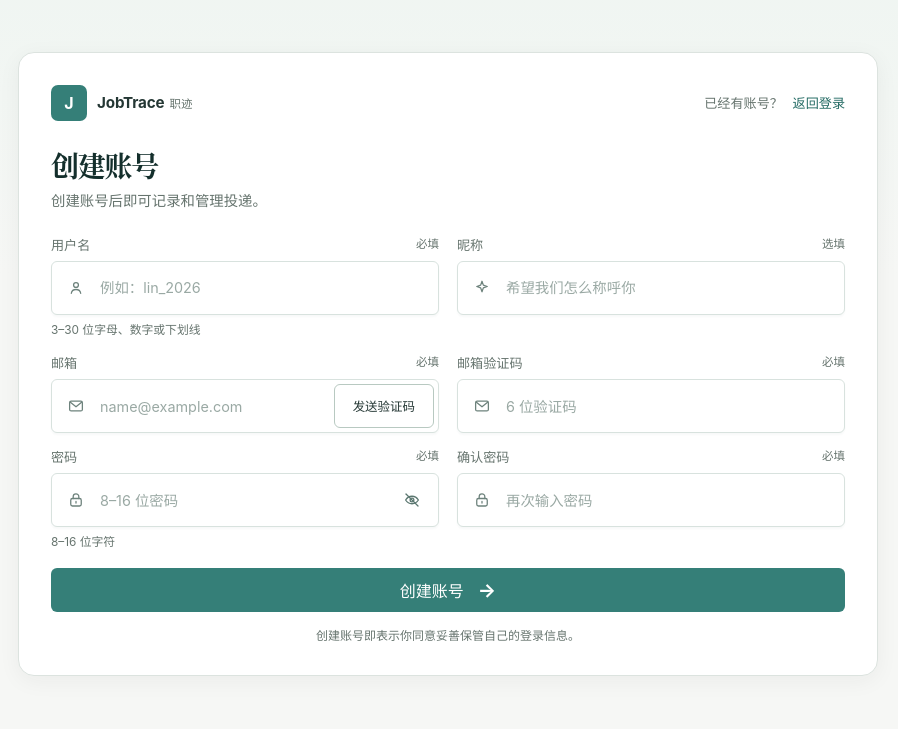
auth forms › keeps registration on the page when passwords differ
In the field labelled "用户名": x=245, y=288 left=51, top=261, right=439, bottom=315, type "user"
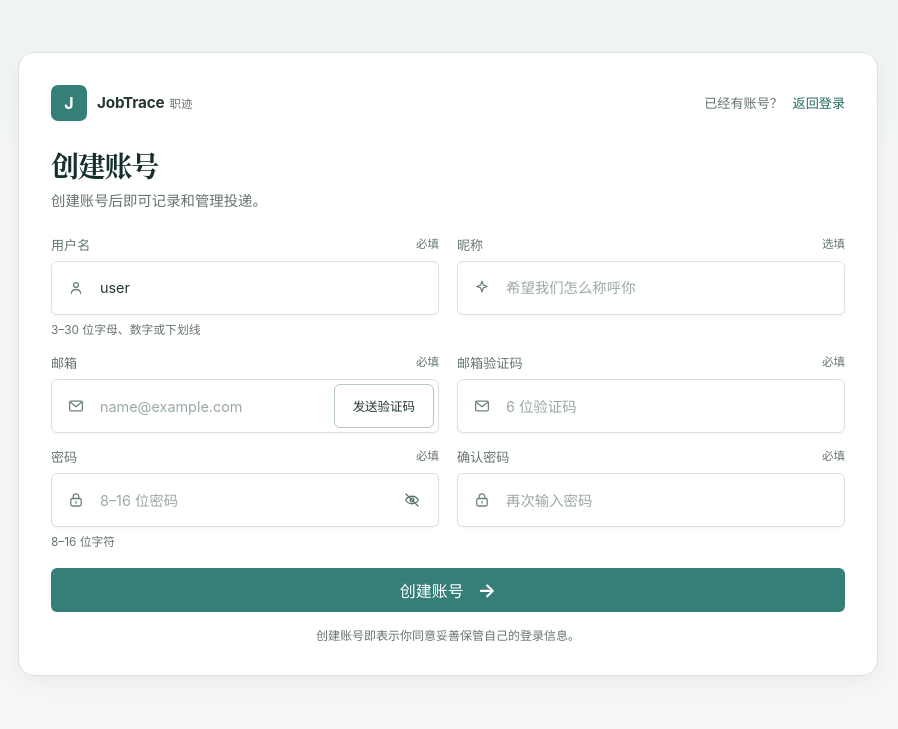
In the field labelled "邮箱": x=245, y=406 left=51, top=380, right=439, bottom=434, type "user@example.com"
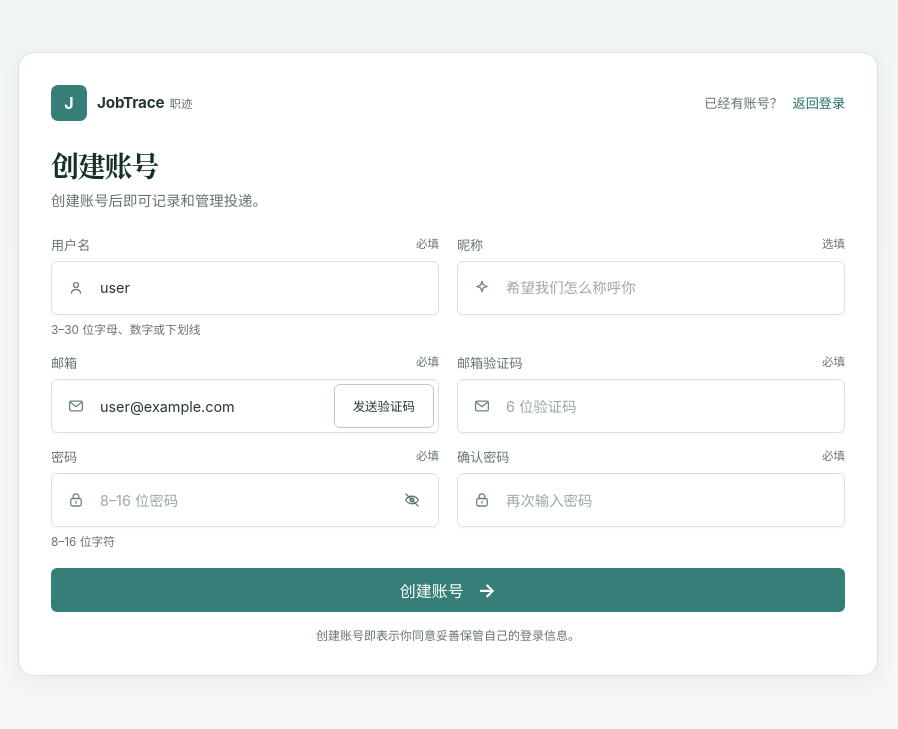
In the field labelled "邮箱验证码": x=651, y=406 left=457, top=380, right=845, bottom=434, type "123456"
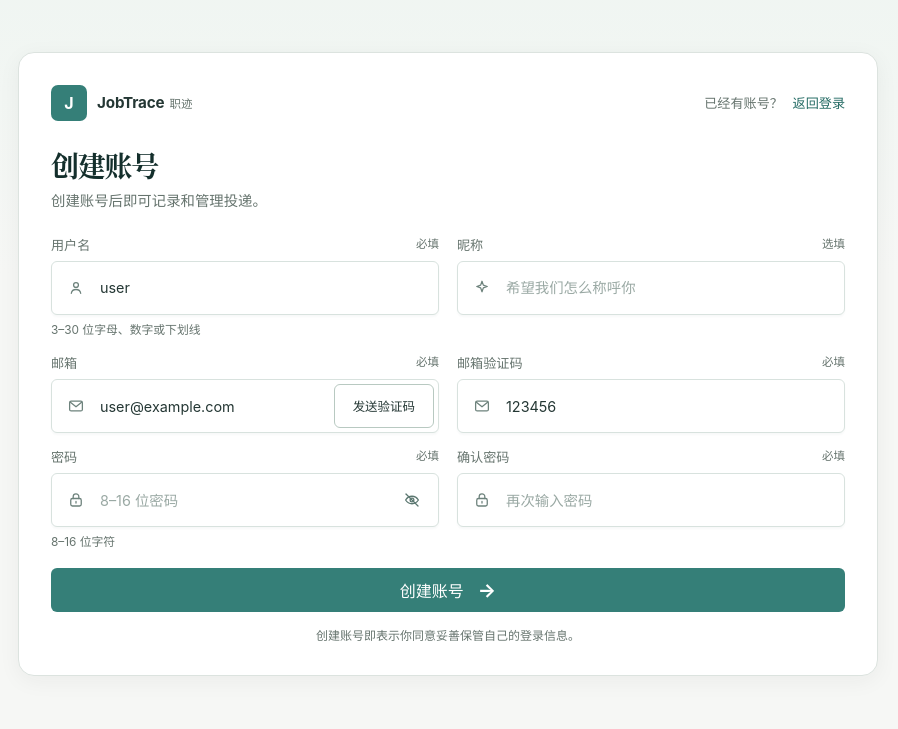
In the password field labelled "密码": x=245, y=500 left=51, top=474, right=439, bottom=528, type "secret123"
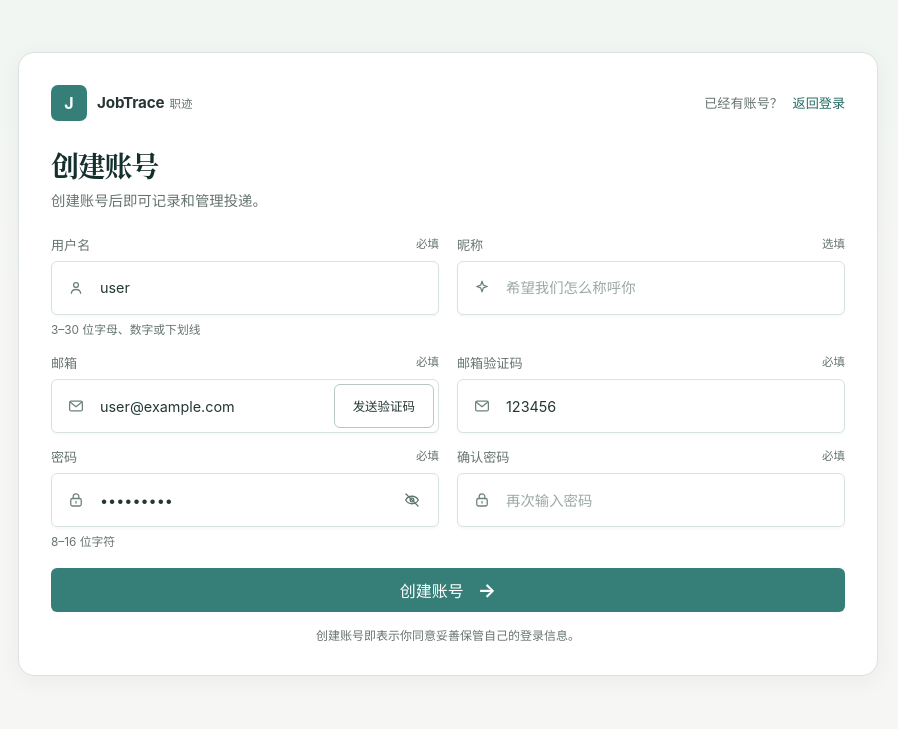
In the password field labelled "确认密码": x=651, y=500 left=457, top=474, right=845, bottom=528, type "different123"
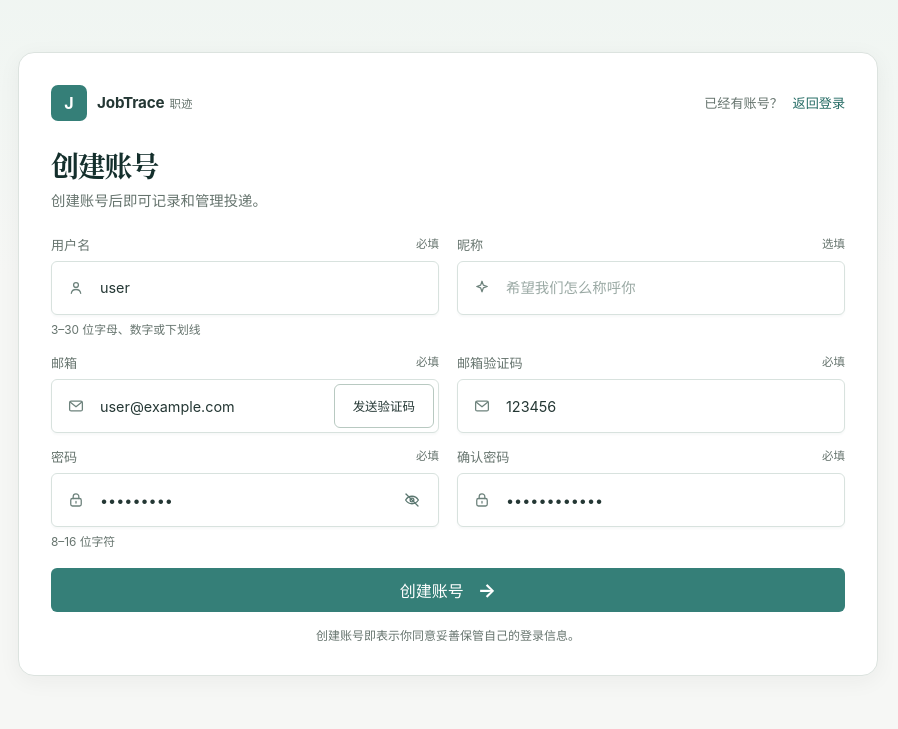
Click the button "创建账号 →": x=448, y=590 left=51, top=568, right=845, bottom=612
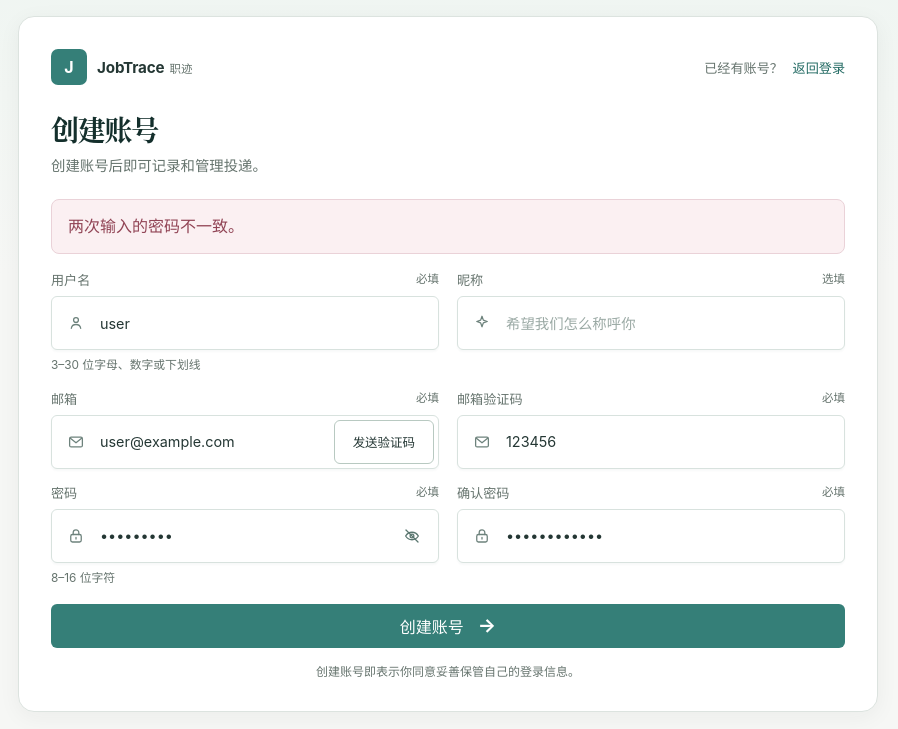
Expected: the message shows "两次输入的密码不一致", left=68, top=216, right=244, bottom=236
